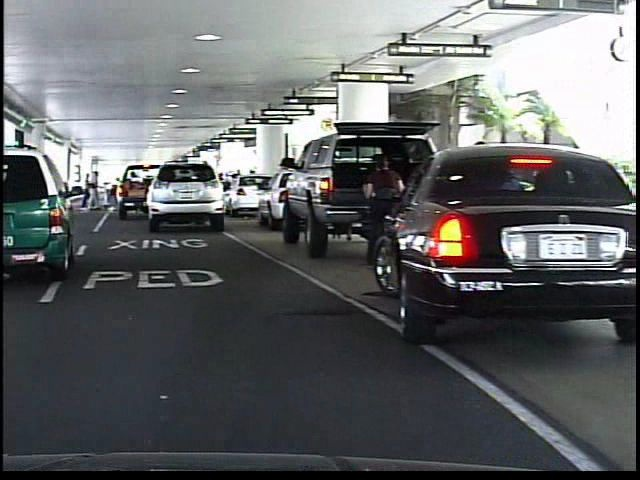person: (356, 151, 407, 262)
